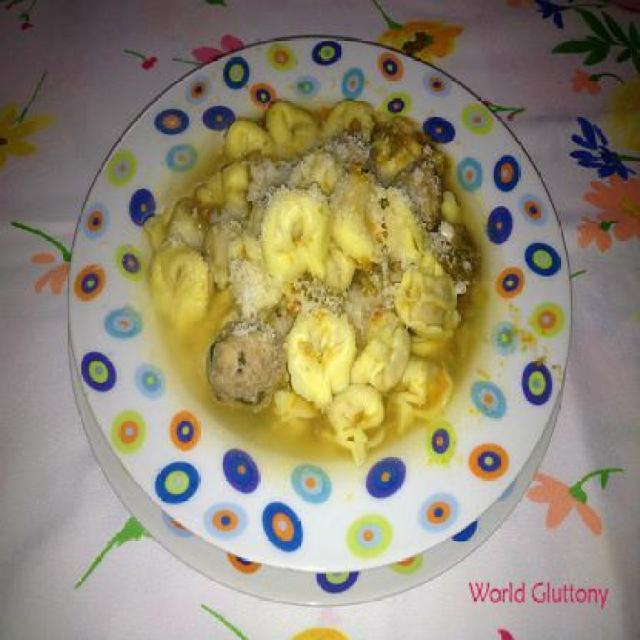Tortellini in broth: (138, 59, 504, 513)
